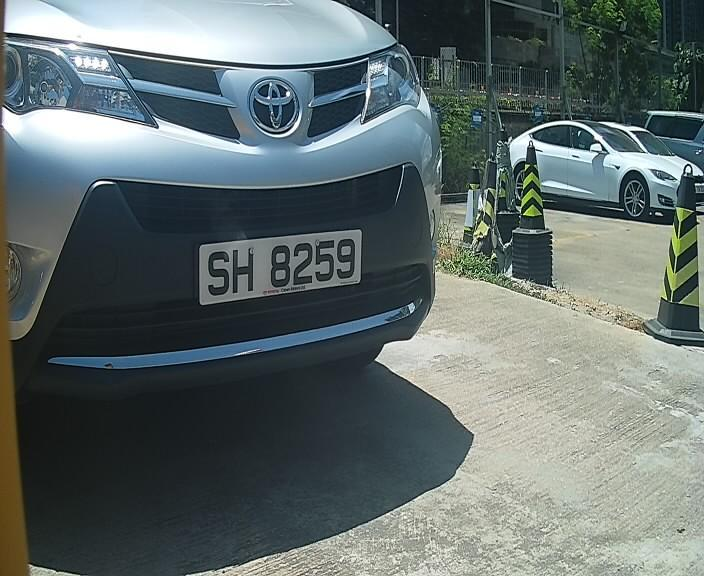privatecar: (1, 8, 472, 451)
